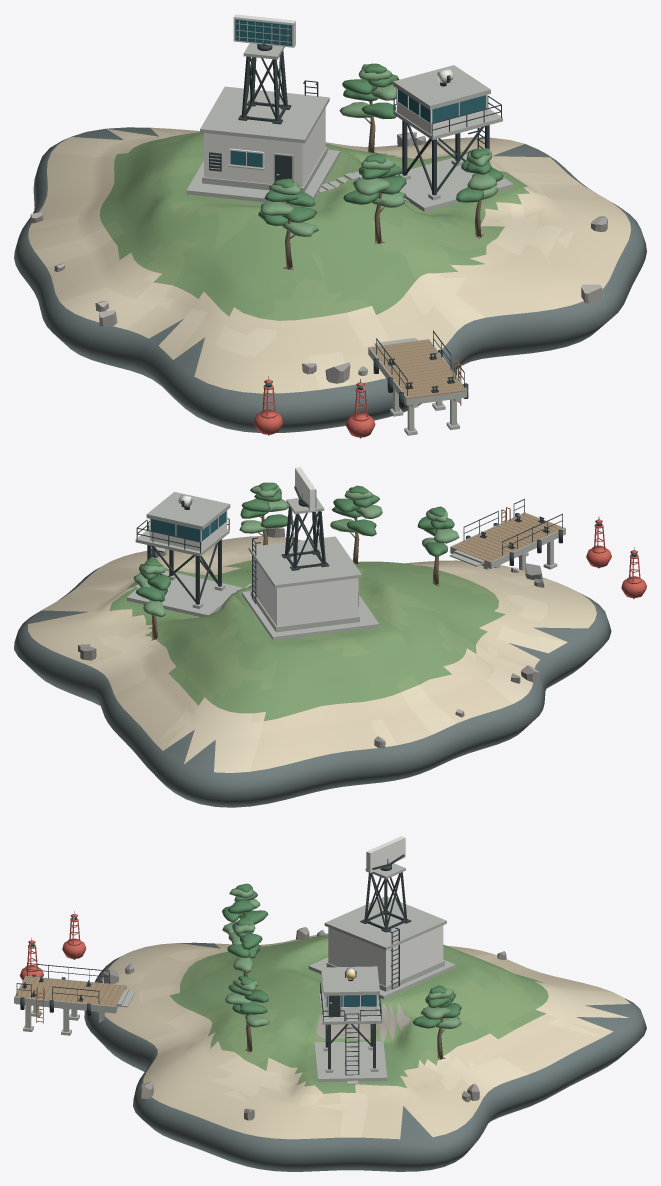
Rendered from ENV_RadarOutpost__Seed20261099_LOD1.fbx.
3 renders of one model, top to bottom at view 1: azimuth 30°, elevation 25°; view 2: azimuth 150°, elevation 25°; view 3: azimuth 270°, elevation 25°, orthographic. The views are drawn at different scales.
Visible parts, largest first — view 1: TerrainShell, ENV_RadarStation_0_Visual.001, ENV_WatchPost_1_Visual, ENV_Jetty_6_Visual, ENV_CoastalPine_5_Visual, ENV_CoastalPine_2_Visual.001, ENV_CoastalPine_4_Visual, Decor_Visual.001, ENV_CoastalPine_3_Visual.001, SearchArrayHead_Visual.001, ENV_NavigationBuoy_7_Visual, ENV_NavigationBuoy_8_Visual; view 2: TerrainShell, ENV_RadarStation_0_Visual.001, ENV_WatchPost_1_Visual, ENV_Jetty_6_Visual, ENV_CoastalPine_4_Visual, ENV_CoastalPine_3_Visual.001, ENV_CoastalPine_5_Visual, Decor_Visual.001, ENV_CoastalPine_2_Visual.001, ENV_NavigationBuoy_8_Visual, ENV_NavigationBuoy_7_Visual, SearchArrayHead_Visual.001; view 3: TerrainShell, ENV_RadarStation_0_Visual.001, ENV_WatchPost_1_Visual, ENV_Jetty_6_Visual, ENV_CoastalPine_5_Visual, ENV_CoastalPine_3_Visual.001, ENV_CoastalPine_4_Visual, Decor_Visual.001, ENV_CoastalPine_2_Visual.001, SearchArrayHead_Visual.001, ENV_NavigationBuoy_7_Visual.
Boxes of the visible parts, <box> form: TerrainShell: <box>14,127,646,432</box>; ENV_RadarStation_0_Visual.001: <box>186,43,339,206</box>; ENV_WatchPost_1_Visual: <box>393,65,513,211</box>; ENV_Jetty_6_Visual: <box>368,330,468,435</box>; ENV_CoastalPine_5_Visual: <box>339,63,399,153</box>; ENV_CoastalPine_2_Visual.001: <box>258,178,318,270</box>; ENV_CoastalPine_4_Visual: <box>343,153,406,243</box>; Decor_Visual.001: <box>30,132,607,383</box>; ENV_CoastalPine_3_Visual.001: <box>456,148,503,239</box>; SearchArrayHead_Visual.001: <box>233,14,295,47</box>; ENV_NavigationBuoy_7_Visual: <box>253,376,283,435</box>; ENV_NavigationBuoy_8_Visual: <box>346,379,375,438</box>; TerrainShell: <box>14,536,611,807</box>; ENV_RadarStation_0_Visual.001: <box>242,497,379,640</box>; ENV_WatchPost_1_Visual: <box>126,492,242,616</box>; ENV_Jetty_6_Visual: <box>449,498,565,571</box>; ENV_CoastalPine_4_Visual: <box>330,485,382,564</box>; ENV_CoastalPine_3_Visual.001: <box>239,482,293,545</box>; ENV_CoastalPine_5_Visual: <box>133,557,170,640</box>; Decor_Visual.001: <box>78,527,544,748</box>; ENV_CoastalPine_2_Visual.001: <box>417,506,459,586</box>; ENV_NavigationBuoy_8_Visual: <box>586,517,611,568</box>; ENV_NavigationBuoy_7_Visual: <box>621,547,646,598</box>; SearchArrayHead_Visual.001: <box>294,467,316,511</box>; TerrainShell: <box>84,933,646,1171</box>; ENV_RadarStation_0_Visual.001: <box>308,863,455,999</box>; ENV_WatchPost_1_Visual: <box>314,966,387,1082</box>; ENV_Jetty_6_Visual: <box>14,962,134,1037</box>; ENV_CoastalPine_5_Visual: <box>412,985,461,1059</box>; ENV_CoastalPine_3_Visual.001: <box>225,976,269,1052</box>; ENV_CoastalPine_4_Visual: <box>227,917,262,976</box>; Decor_Visual.001: <box>103,927,506,1120</box>; ENV_CoastalPine_2_Visual.001: <box>222,883,268,934</box>; SearchArrayHead_Visual.001: <box>366,836,405,872</box>; ENV_NavigationBuoy_7_Visual: <box>62,911,86,959</box>.
Size of the model in its own units: 2964 by 1351 by 3654.
